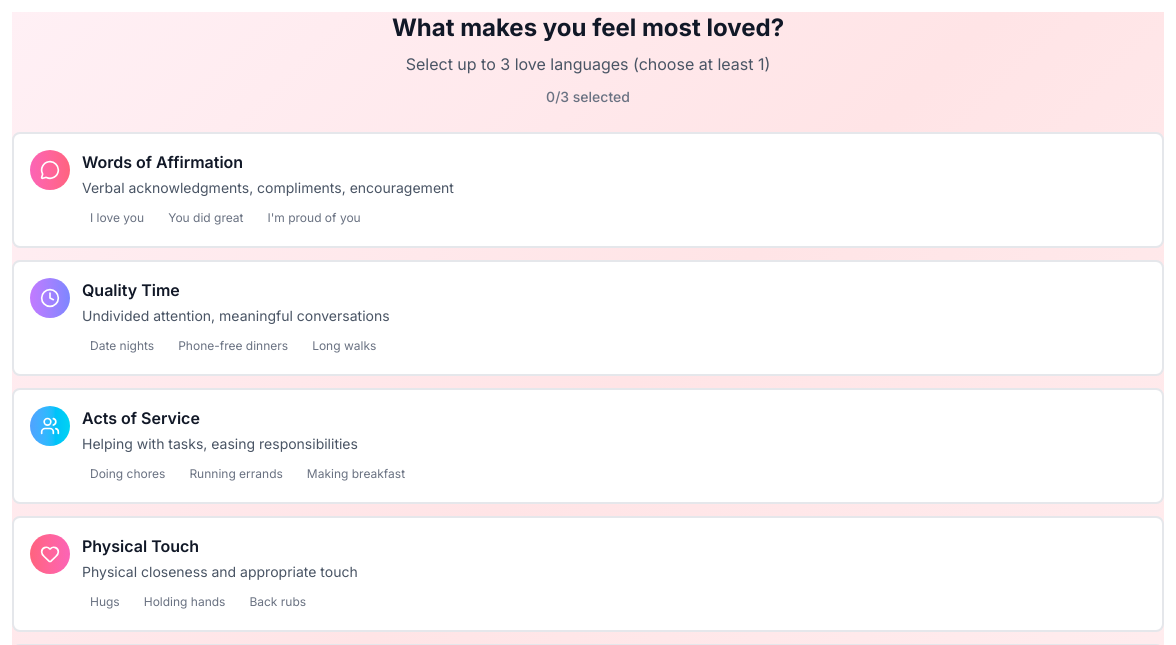
LoveLanguagesStep › allows selecting love languages
Click the heading "Words of Affirmation". click: (163, 162)
box: [82,150,243,174]
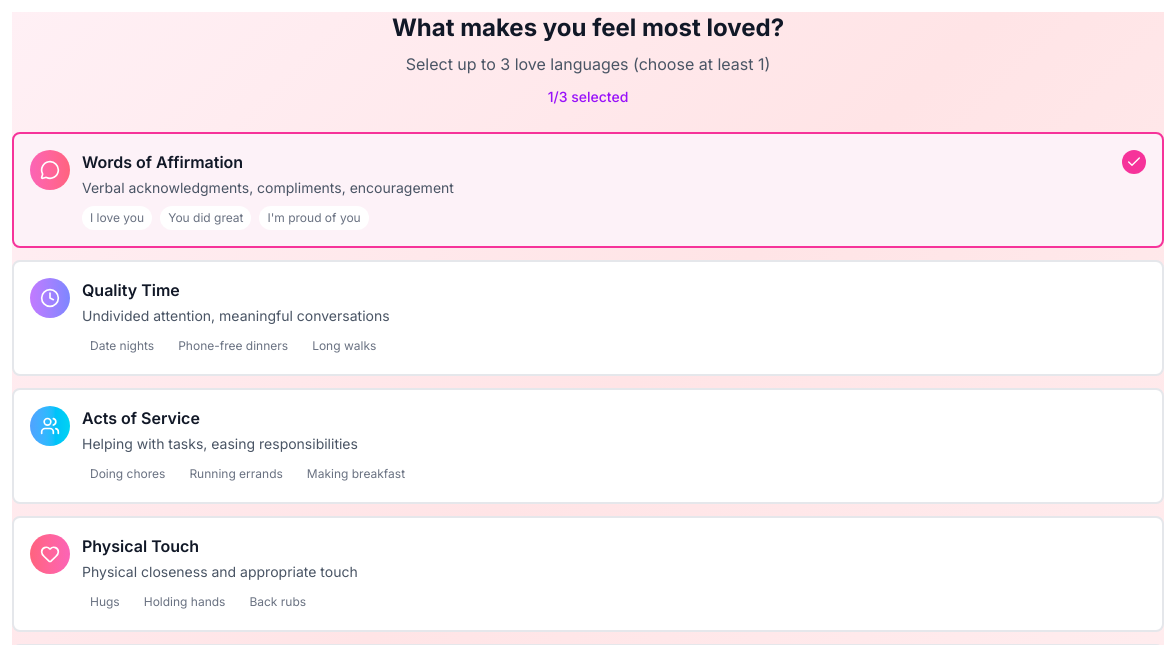
Click the heading "Quality Time". click: (131, 290)
box: [82,278,180,302]
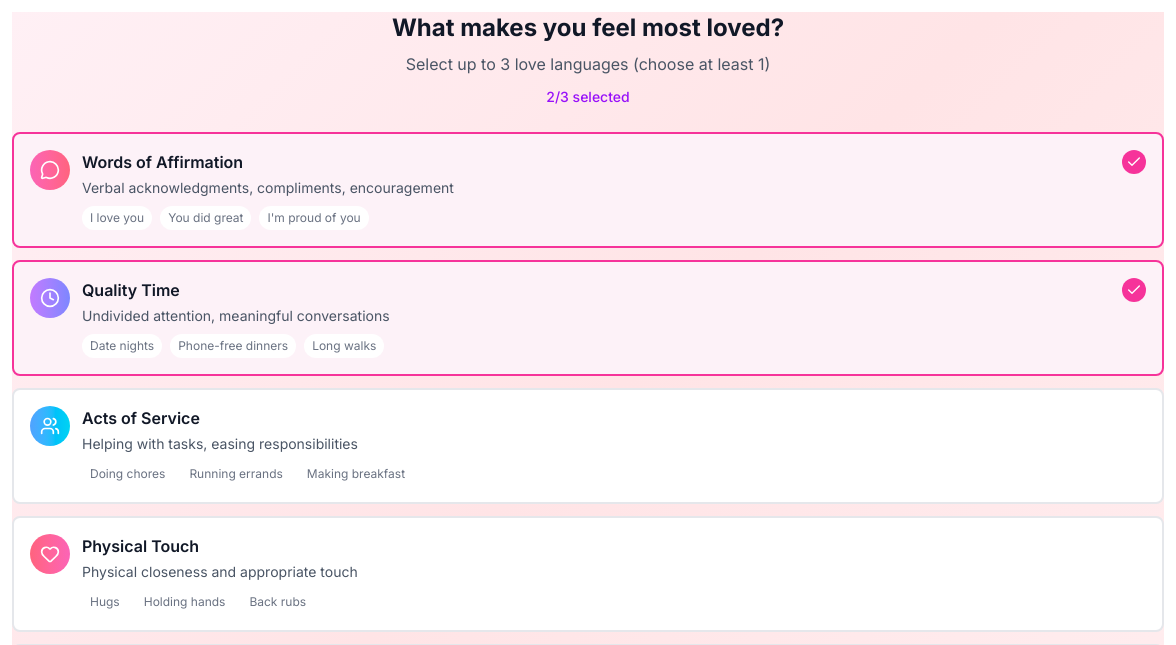
Now the text "2/3 selected" is shown, box [546,88,630,105]
